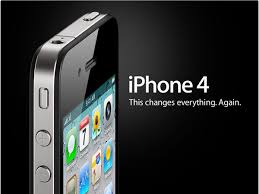iphone: (27, 9, 124, 194)
